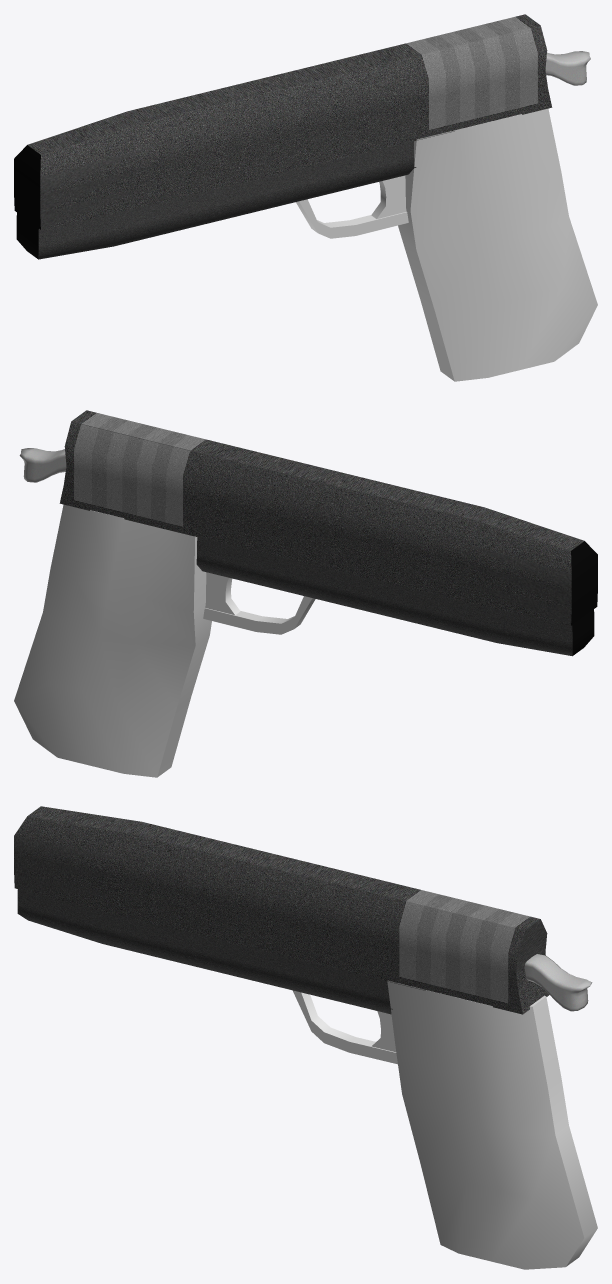
File: Pistol.FBX
3 renders of one model, top to bottom at view 1: azimuth 30°, elevation 25°; view 2: azimuth 150°, elevation 25°; view 3: azimuth 330°, elevation 25°, orthographic.
Parts seen in each view (by area): view 1: TopGun, Handle, BottomGun, TriggerOutline, Box005, Trigger; view 2: TopGun, Handle, BottomGun, TriggerOutline, Box005, Trigger; view 3: TopGun, Handle, BottomGun, Box005, TriggerOutline.
Boxes of the visible parts, bbox=[...] form: TopGun: bbox=[14, 14, 552, 229]; Handle: bbox=[398, 108, 597, 381]; BottomGun: bbox=[16, 141, 416, 259]; TriggerOutline: bbox=[296, 199, 408, 238]; Box005: bbox=[545, 51, 590, 85]; Trigger: bbox=[371, 175, 406, 218]; TopGun: bbox=[59, 410, 597, 625]; Handle: bbox=[14, 504, 211, 777]; BottomGun: bbox=[196, 537, 594, 656]; TriggerOutline: bbox=[203, 596, 315, 634]; Box005: bbox=[19, 448, 66, 482]; Trigger: bbox=[205, 572, 240, 614]; TopGun: bbox=[14, 806, 549, 1014]; Handle: bbox=[387, 980, 597, 1269]; BottomGun: bbox=[17, 889, 392, 1014]; Box005: bbox=[524, 954, 592, 1011]; TriggerOutline: bbox=[292, 990, 397, 1064].
Size of the model in its own units: 103 by 58.34 by 9.34.
